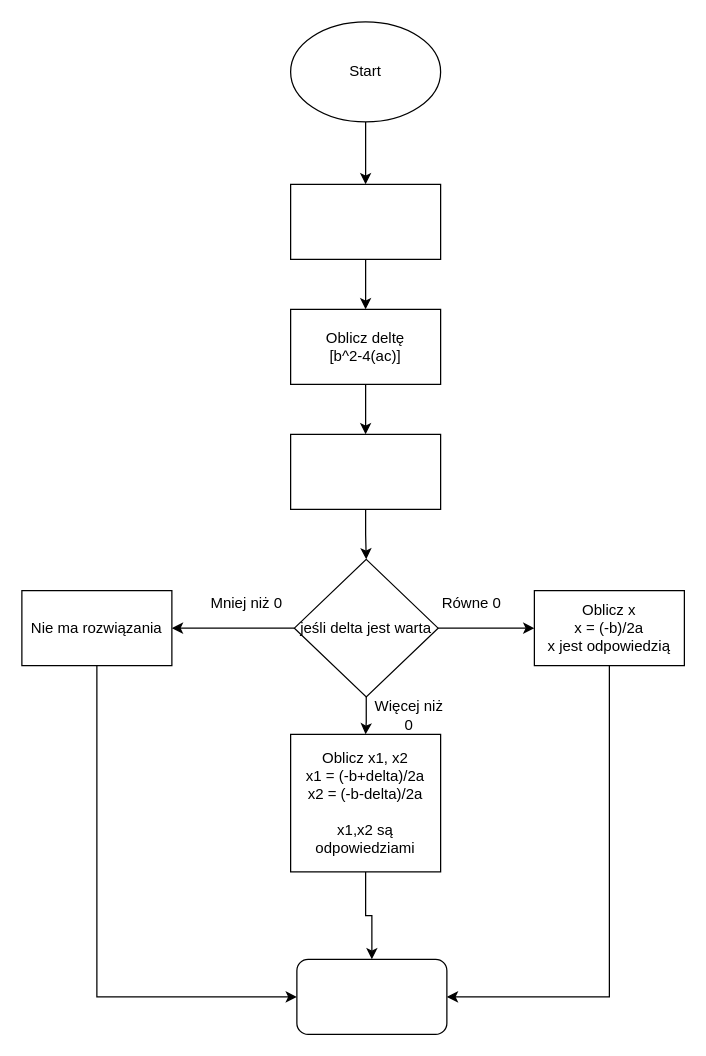
Some shapes in this 706 by 1056 pixel diagram are drawn without their labels. The box of each missing label's shape, as (x1, y1, x2, y2) in pixels:
Daj deltę pod pierwiastek: (289, 433, 441, 509)
Koniec: (296, 958, 447, 1034)
Weź wartości a,b,c: (289, 183, 441, 259)
